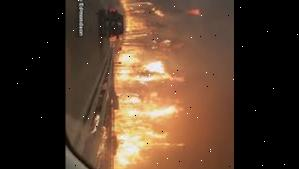fire: (112, 42, 183, 169), (126, 0, 167, 37)
